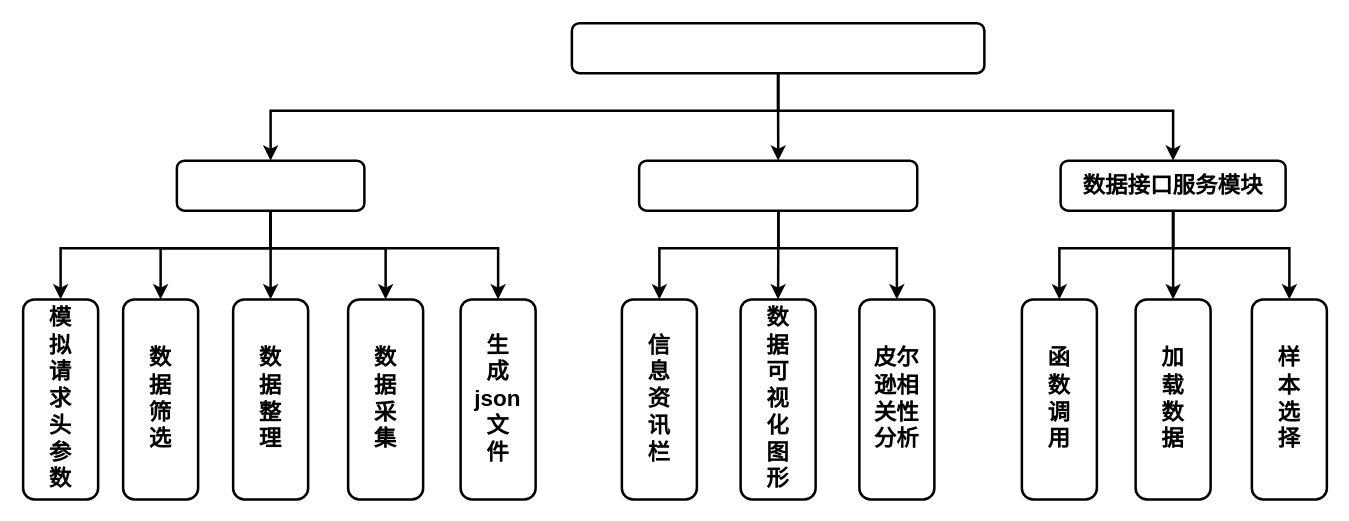
The diagram is 1349 pixels wide and 521 high, and some of its shapes have lost their labels. The shapes that lost their labels are listed below. From the top down, each one's box as (x1, y1, x2, y2) in pixels, then its label:
(570, 21, 985, 74): 疫情数据分析及可视化系统
(175, 159, 365, 211): 爬虫模块
(637, 159, 918, 211): 数据分析及可视化模块
